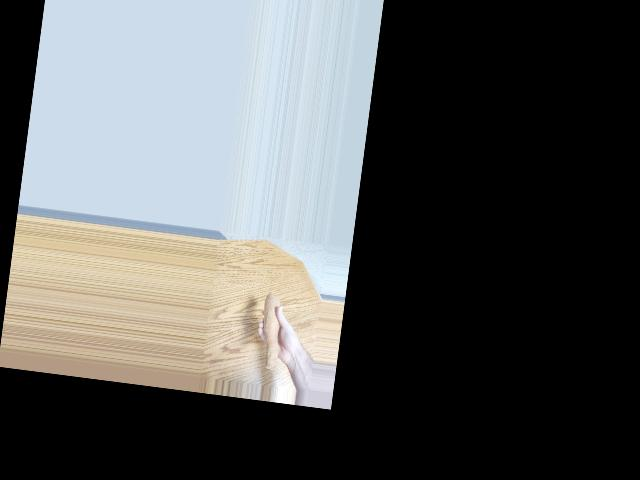sweet_potato: (253, 290, 287, 373)
